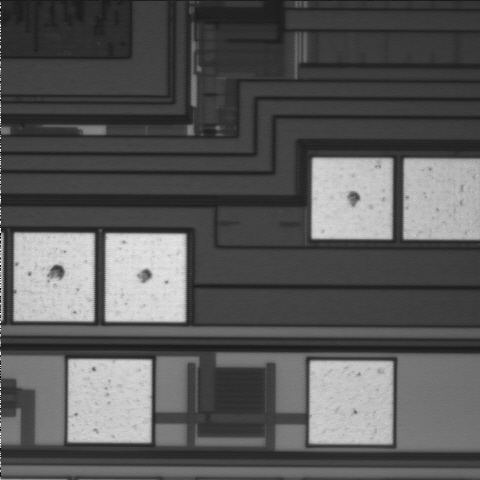pad: (14, 233, 94, 321), (106, 234, 186, 322), (68, 359, 151, 442), (310, 361, 392, 444), (312, 158, 392, 239)
